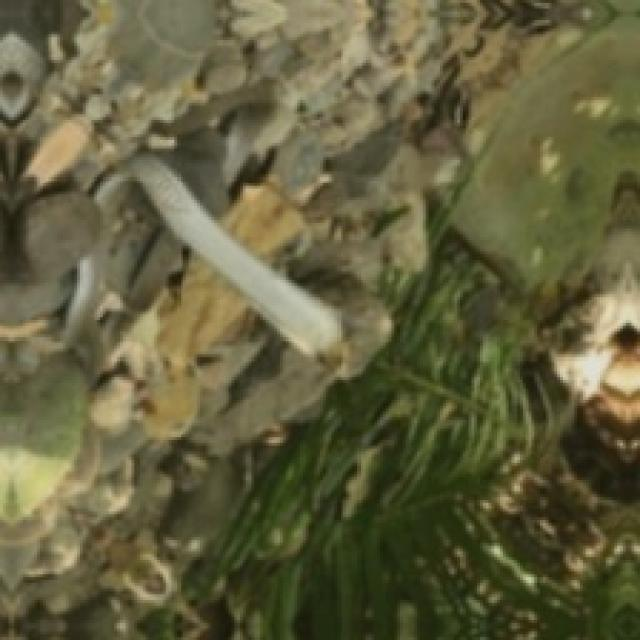king cobra: (84, 152, 344, 367), (95, 172, 184, 309), (48, 241, 105, 350)
